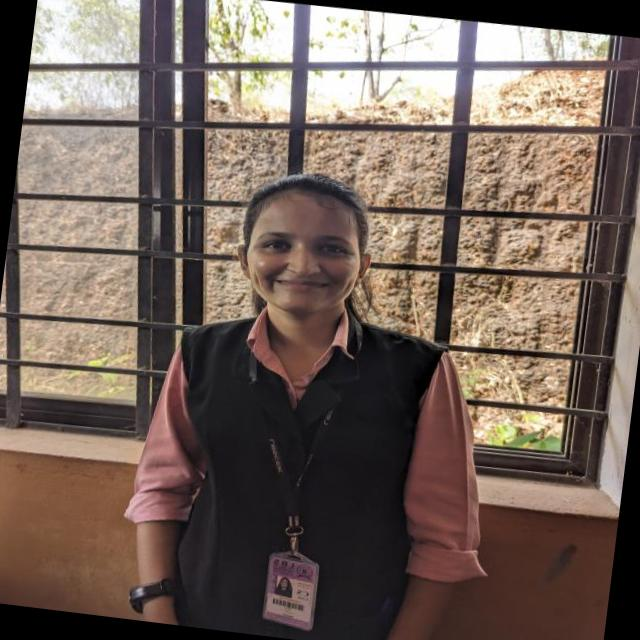id_card: (224, 310, 361, 640)
